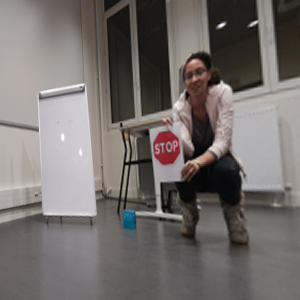stop: (153, 131, 182, 165)
